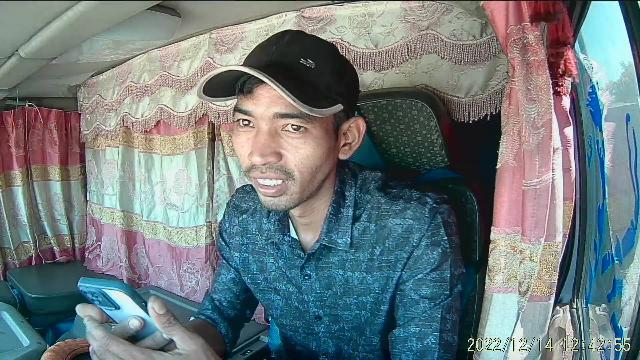PhoneUse: (76, 274, 162, 342)
SafeDriving: (274, 116, 312, 138), (230, 110, 260, 132)
